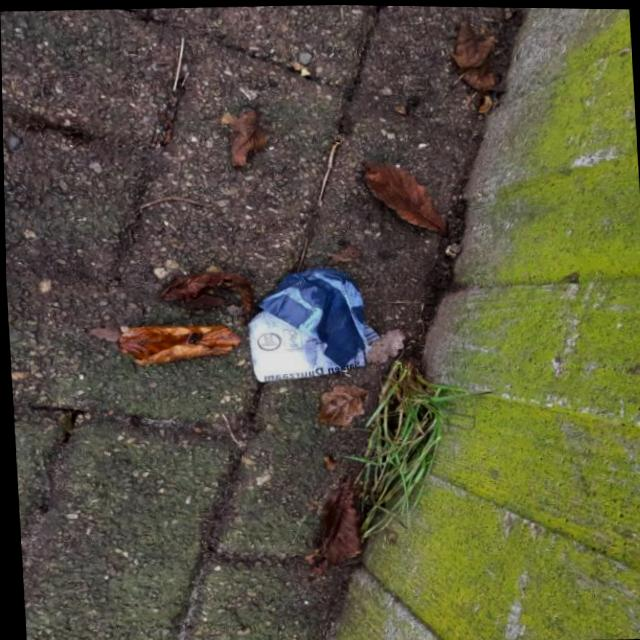Paper: (238, 258, 383, 384)
